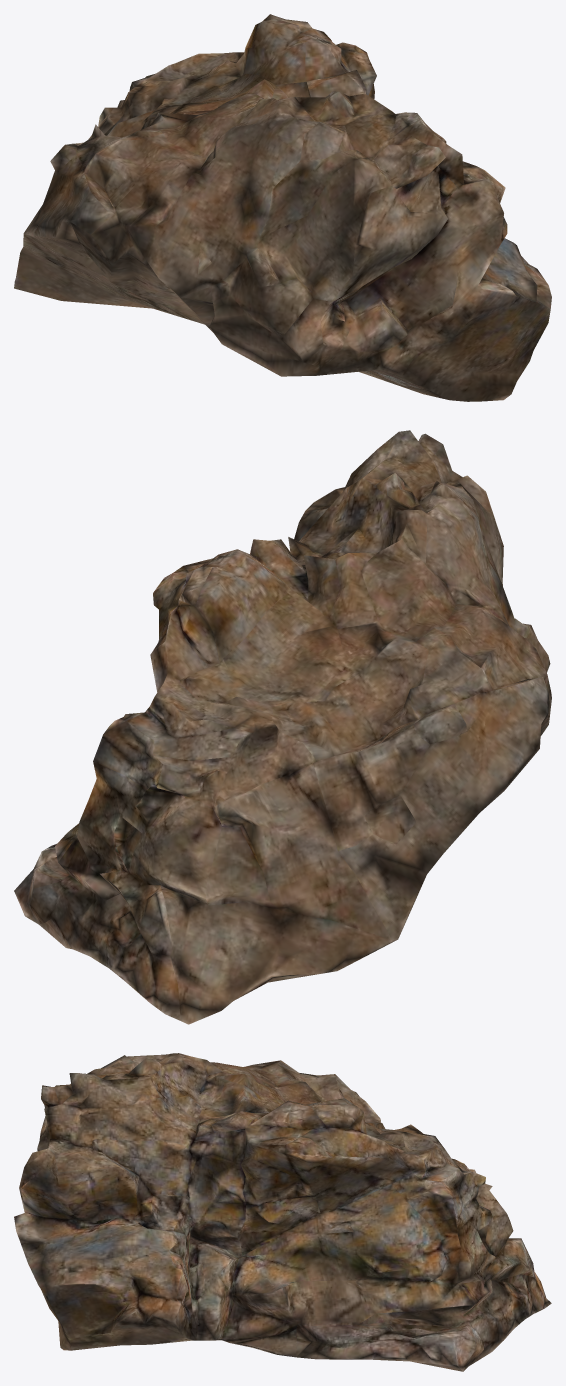
The model's file is boulder.glb.
3 renders of one model, top to bottom at view 1: azimuth 30°, elevation 25°; view 2: azimuth 150°, elevation 25°; view 3: azimuth 270°, elevation 25°, orthographic. The views are drawn at different scales.
Size of the model in its own units: 1.26 by 0.9963 by 1.82.
Materials: 1 (1 with a texture image).
